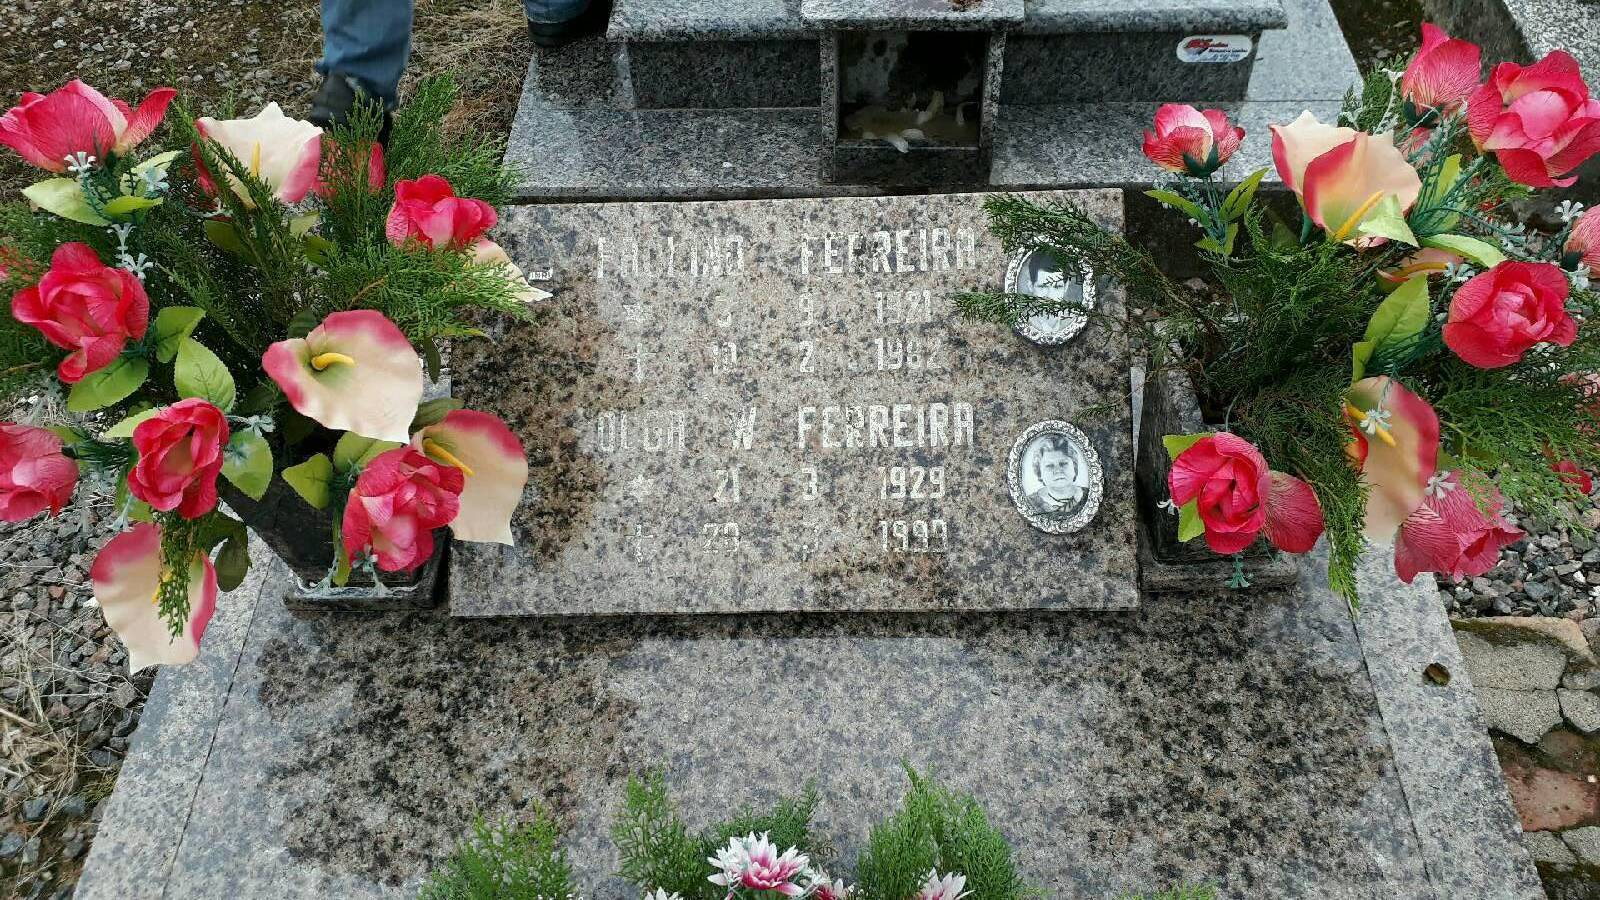vault: (438, 181, 1142, 616)
